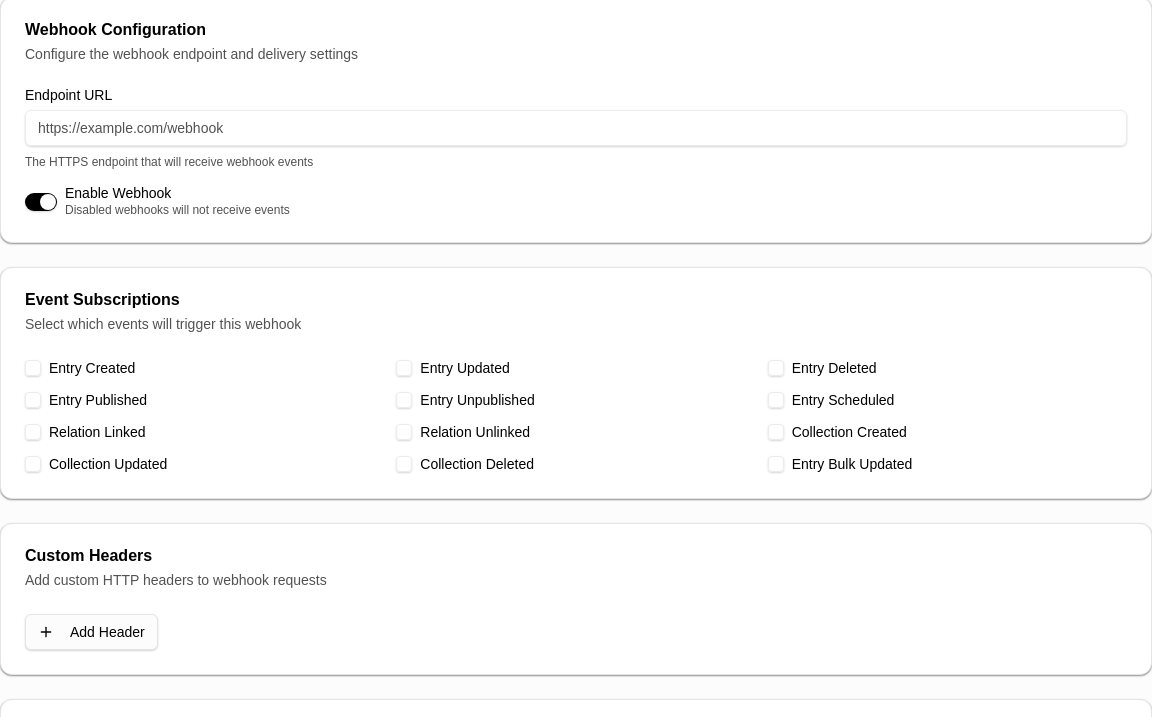
Test: WebhookForm › validates URL must be HTTPS
Type "http://example.com/webhook" into the field with placeholder "https://example.com/webhook". click: coordinates (576, 128)
box: [25,110,1127,146]
(page scrolled)
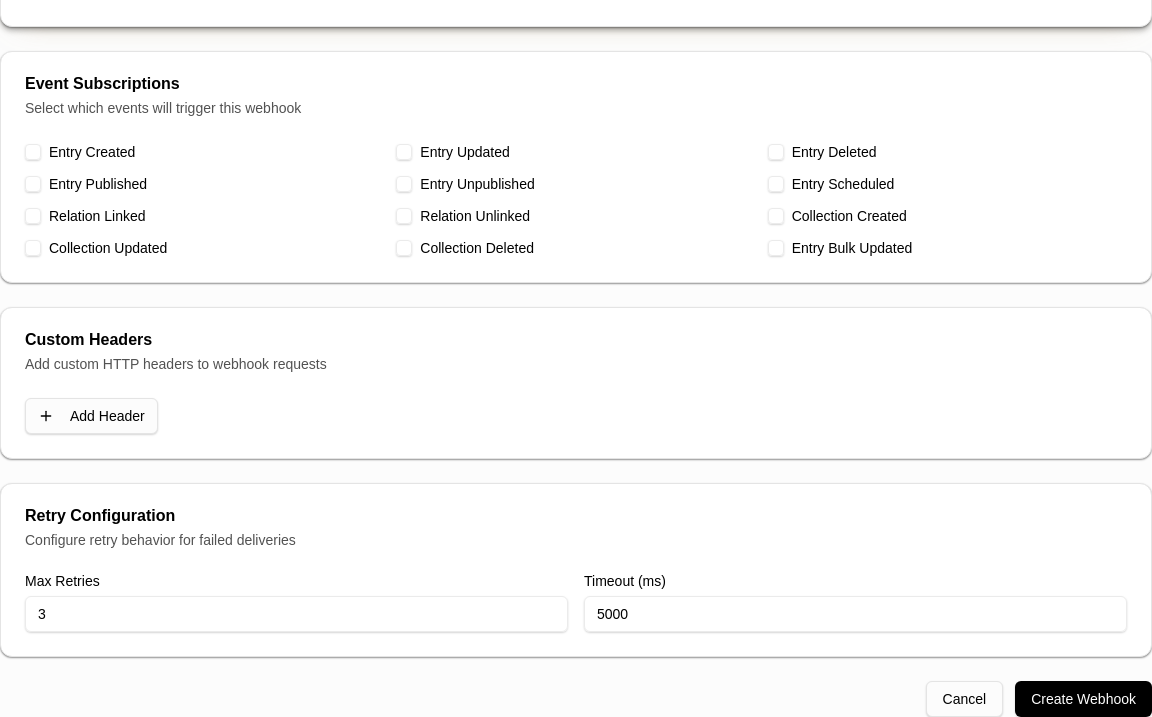
Click the button "Create Webhook". click: coordinates (1084, 699)
box: [1015,681,1151,716]
(page scrolled)
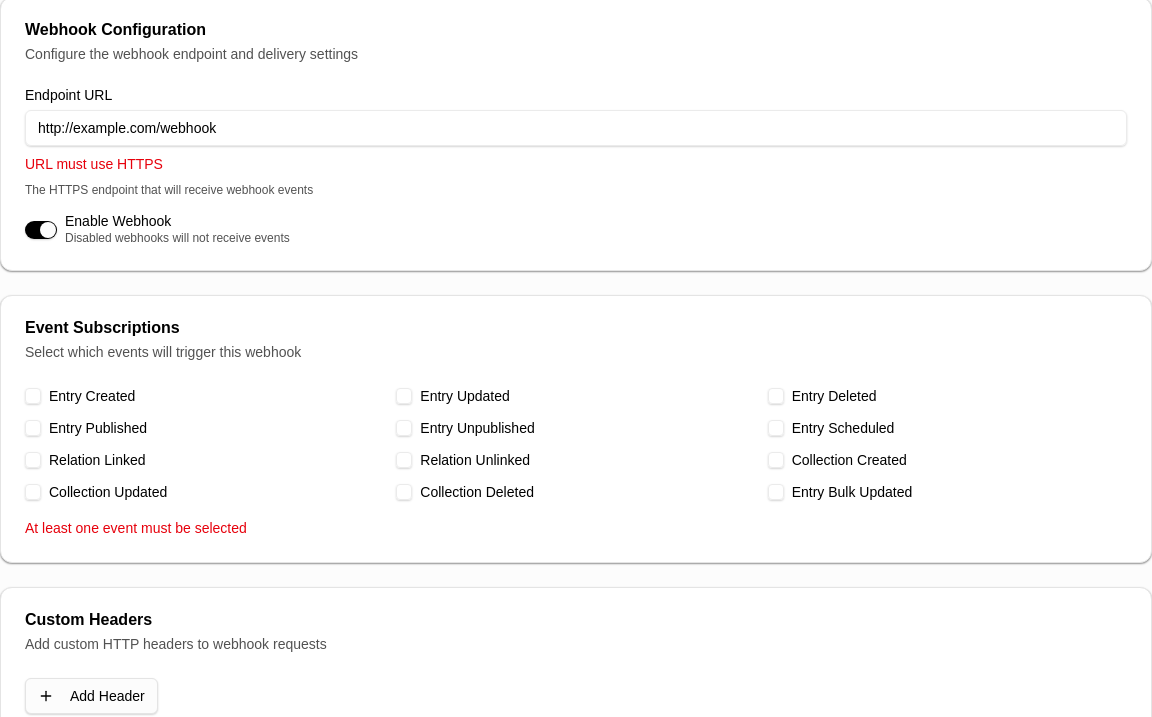
Result: the text "URL must use HTTPS" is shown at [25,156,163,172]
